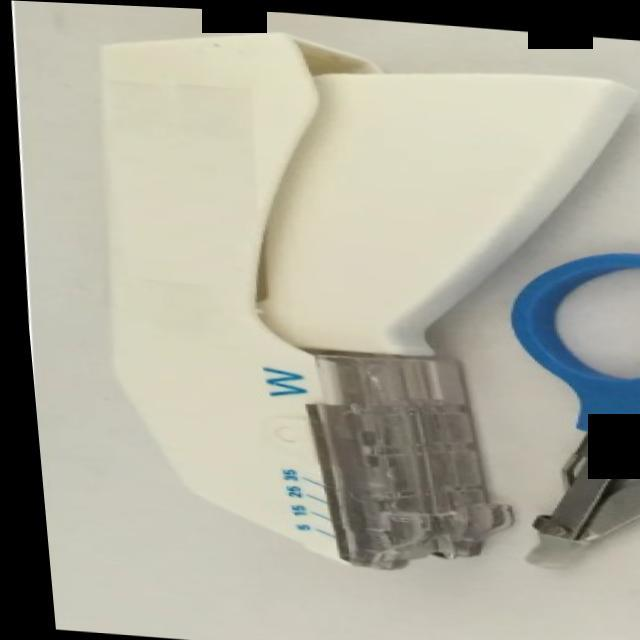Skin Stapler: (60, 4, 640, 584)
